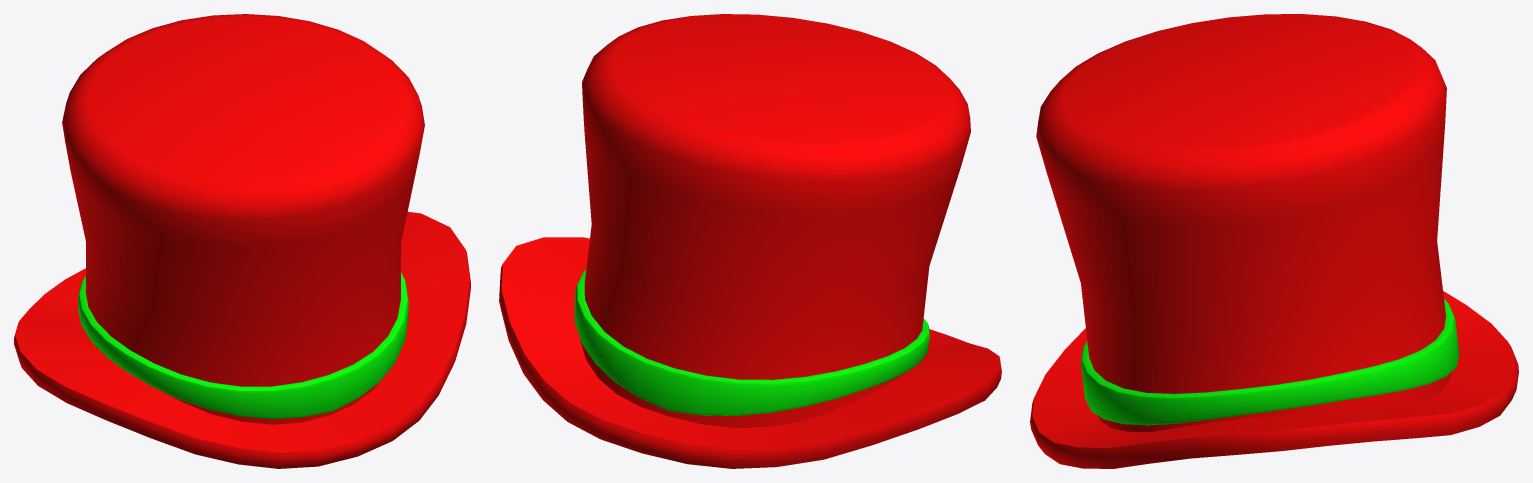
File: TophatStatic.obj
The picture shows the model from 3 angles, left to right: view 1: azimuth 30°, elevation 25°; view 2: azimuth 150°, elevation 25°; view 3: azimuth 270°, elevation 25°; orthographic projection. The views are drawn at different scales.
Visible parts, largest first — view 1: SM_Top_hat; view 2: SM_Top_hat; view 3: SM_Top_hat.
Part boxes in pixels (x1,y1,x2,y2): SM_Top_hat: (14,14,470,468); SM_Top_hat: (499,14,1001,468); SM_Top_hat: (1030,14,1518,468).
Size of the model in its own units: 22.61 by 16.1 by 19.65.
